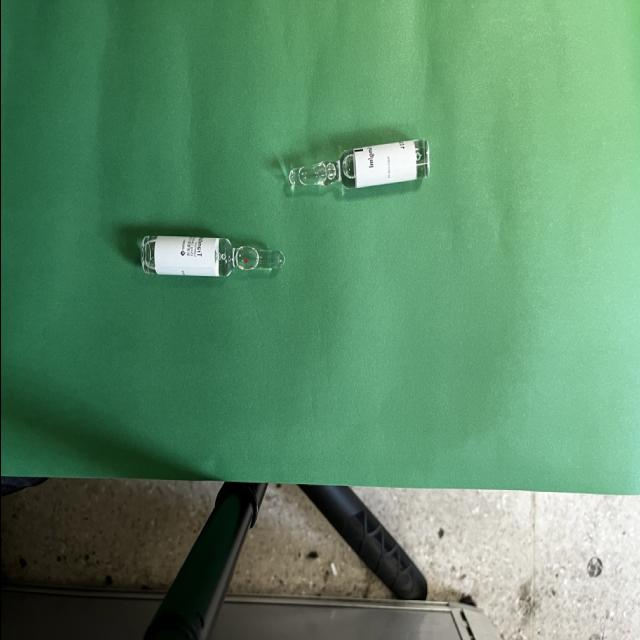Ampoules: (285, 139, 429, 194), (138, 236, 284, 277)
